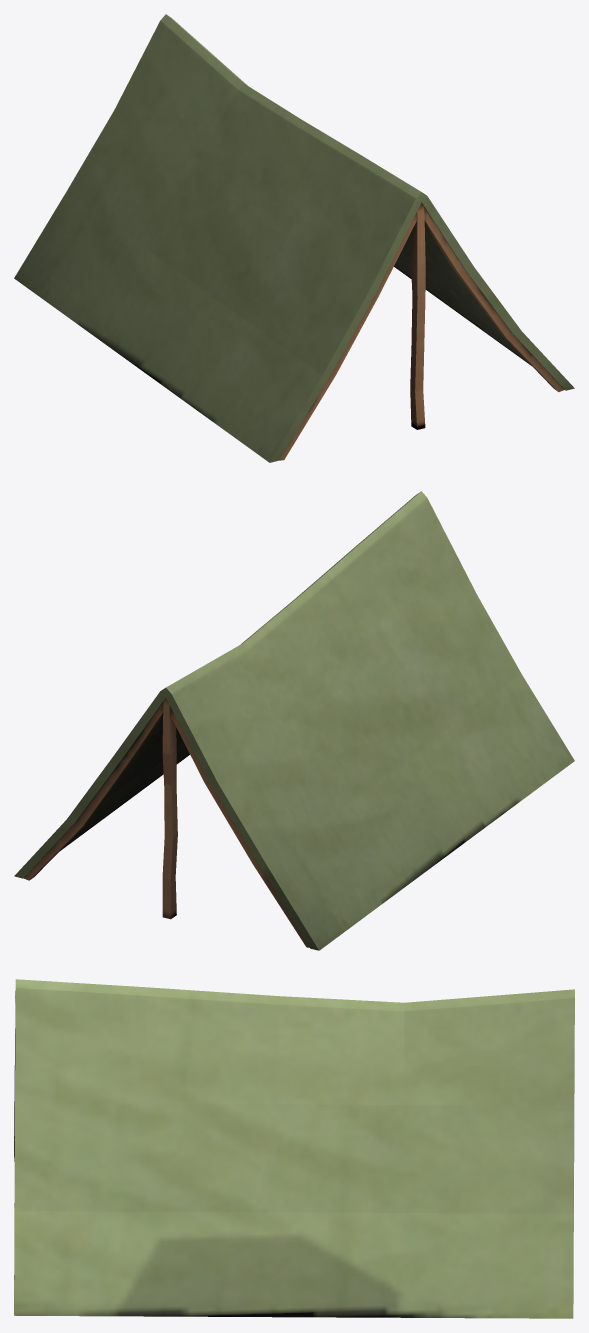
Rendered from Tent.fbx.
3 views of the same model, one above another, from view 1: azimuth 30°, elevation 25°; view 2: azimuth 150°, elevation 25°; view 3: azimuth 270°, elevation 25° (orthographic). The views are drawn at different scales.
Parts seen in each view (by area): view 1: Tent; view 2: Tent; view 3: Tent.
Boxes of the visible parts, x1,y1,x2,y2 form: Tent: (14, 14, 574, 462); Tent: (14, 491, 574, 950); Tent: (14, 979, 574, 1318).
Size of the model in its own units: 470 by 354 by 684.
1 material, 1 textured.
